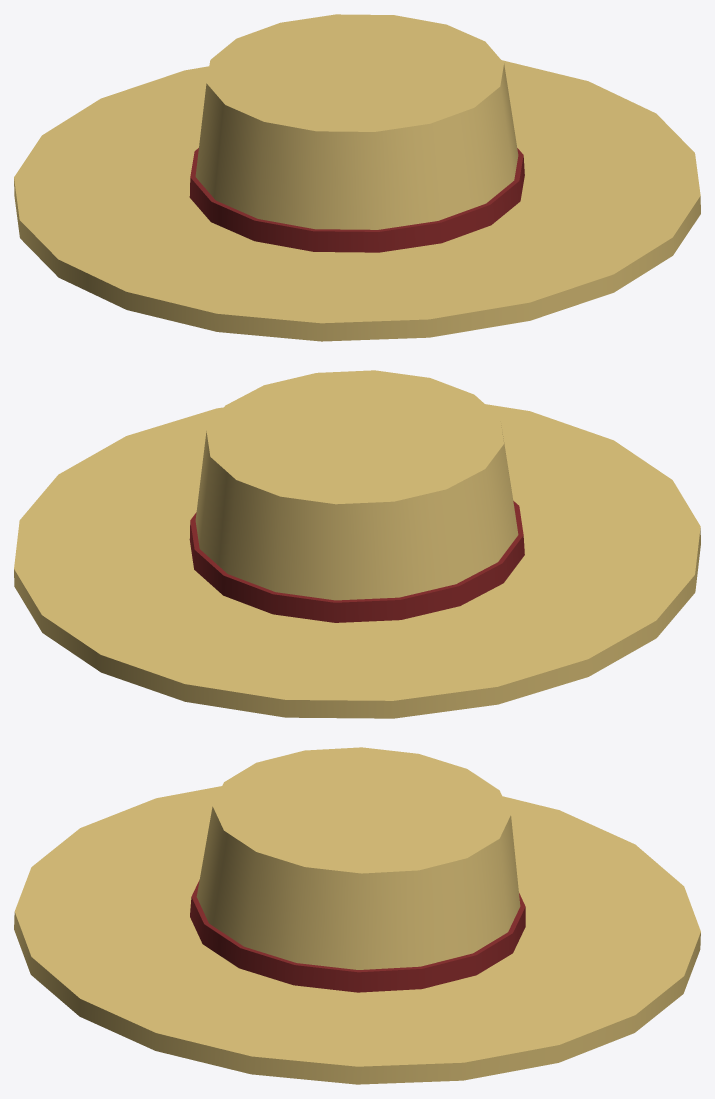
File: straw_hat_m.glb
The picture shows the model from 3 angles, top to bottom: view 1: azimuth 30°, elevation 25°; view 2: azimuth 150°, elevation 25°; view 3: azimuth 270°, elevation 25°; orthographic projection.
Visible parts, largest first — view 1: straw_hat_m; view 2: straw_hat_m; view 3: straw_hat_m.
Part boxes in pixels (bbox=[...]): straw_hat_m: bbox=[14, 14, 700, 341]; straw_hat_m: bbox=[14, 370, 700, 718]; straw_hat_m: bbox=[14, 747, 700, 1084].
Size of the model in its own units: 0.4169 by 0.0962 by 0.4171.
